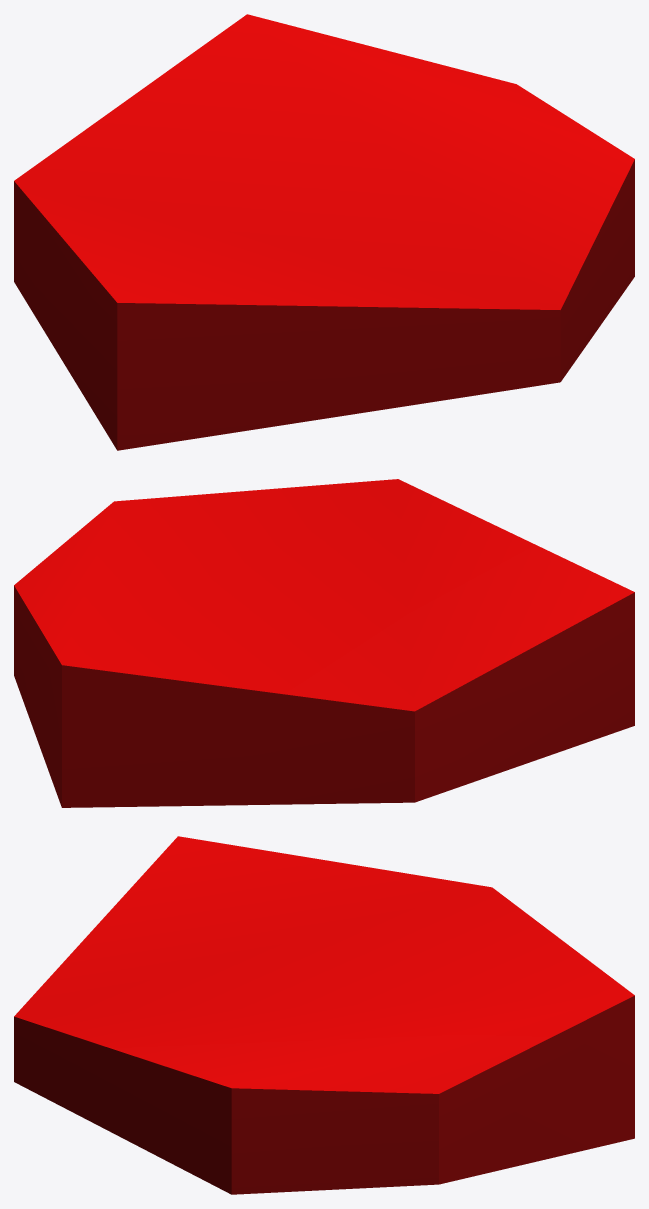
File: geology-landforms-icedrift_v3.fbx
The picture shows the model from 3 angles, top to bottom: view 1: azimuth 30°, elevation 25°; view 2: azimuth 150°, elevation 25°; view 3: azimuth 270°, elevation 25°; orthographic projection. The views are drawn at different scales.
Visible parts, largest first — view 1: IceDrift_v3; view 2: IceDrift_v3; view 3: IceDrift_v3.
Boxes of the visible parts, x1,y1,x2,y2 form: IceDrift_v3: [14, 14, 634, 450]; IceDrift_v3: [14, 479, 634, 807]; IceDrift_v3: [14, 836, 634, 1194].
Size of the model in its own units: 1.73 by 0.4791 by 1.88.
